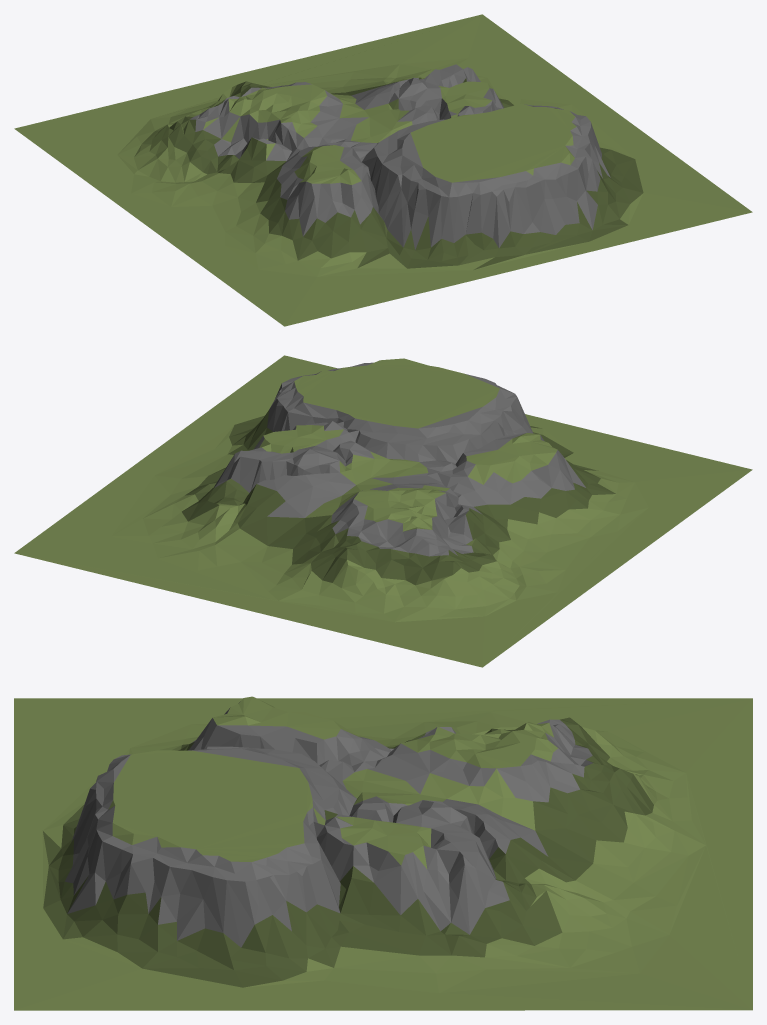
The model's file is Terrain_03.fbx.
3 views of the same model, one above another, from view 1: azimuth 30°, elevation 25°; view 2: azimuth 150°, elevation 25°; view 3: azimuth 270°, elevation 25° (orthographic). The views are drawn at different scales.
Parts seen in each view (by area): view 1: Terrain_03; view 2: Terrain_03; view 3: Terrain_03.
Boxes of the visible parts, x1,y1,x2,y2 form: Terrain_03: [14, 14, 752, 326]; Terrain_03: [14, 355, 752, 667]; Terrain_03: [14, 696, 752, 1010].
Size of the model in its own units: 20000 by 2512 by 20000.
